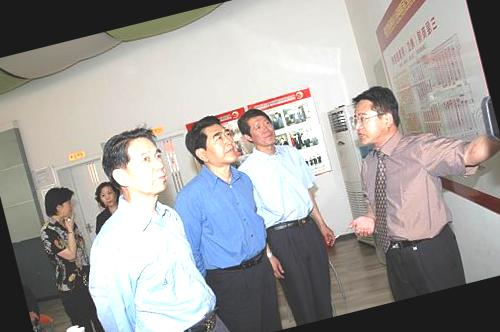no_helmet: (105, 124, 170, 203), (344, 79, 408, 151), (182, 110, 238, 173), (236, 103, 282, 153), (39, 180, 80, 228), (90, 176, 126, 215)
